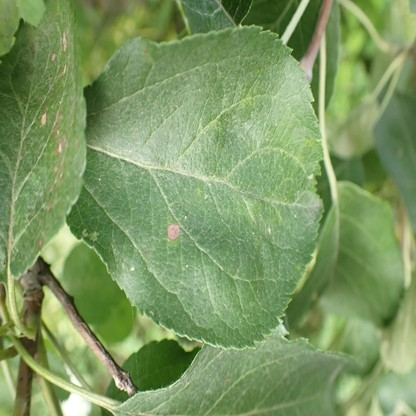frogeye_leaf_spot: (39, 24, 66, 210), (168, 224, 181, 241), (37, 235, 43, 250)
